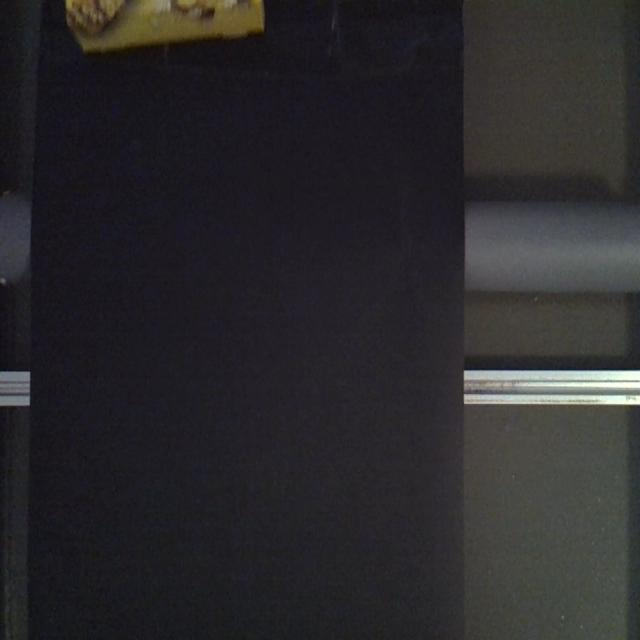carton: (65, 0, 266, 56)
